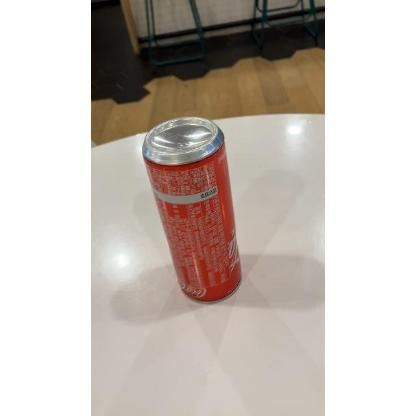Can: (139, 112, 245, 308)
